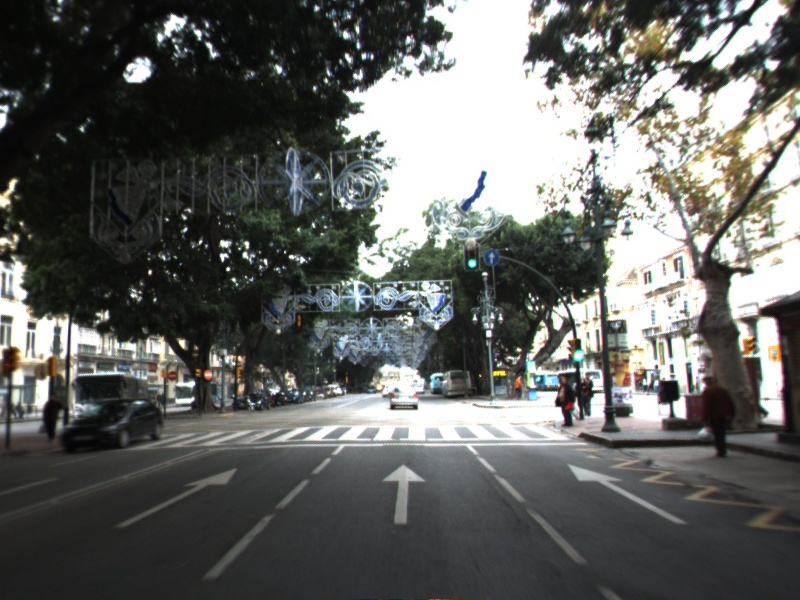STRAIGHT: (110, 466, 240, 531), (564, 461, 691, 527), (379, 462, 429, 527)
